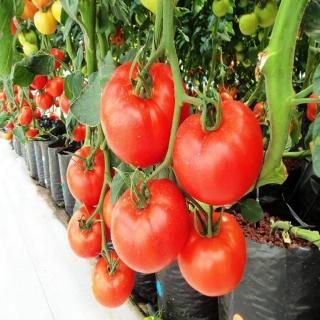Tomat: (173, 96, 265, 207), (111, 177, 190, 275), (177, 207, 248, 298), (2, 49, 71, 140), (67, 144, 114, 208), (92, 251, 136, 310), (68, 204, 110, 260), (34, 8, 59, 36), (255, 1, 279, 29), (240, 13, 259, 37), (307, 93, 320, 122), (213, 1, 231, 18)
